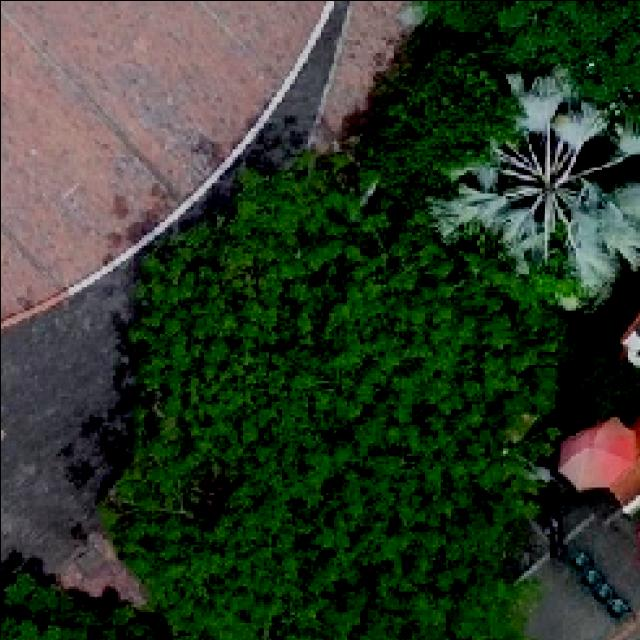vendedor_ambulante: (558, 416, 638, 492)
